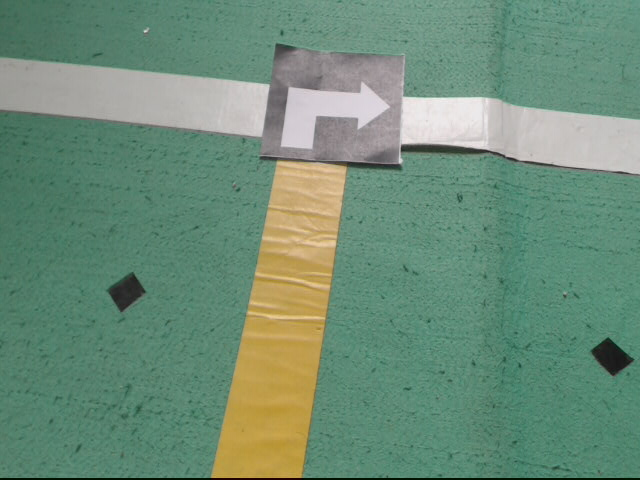right: (259, 44, 403, 165)
